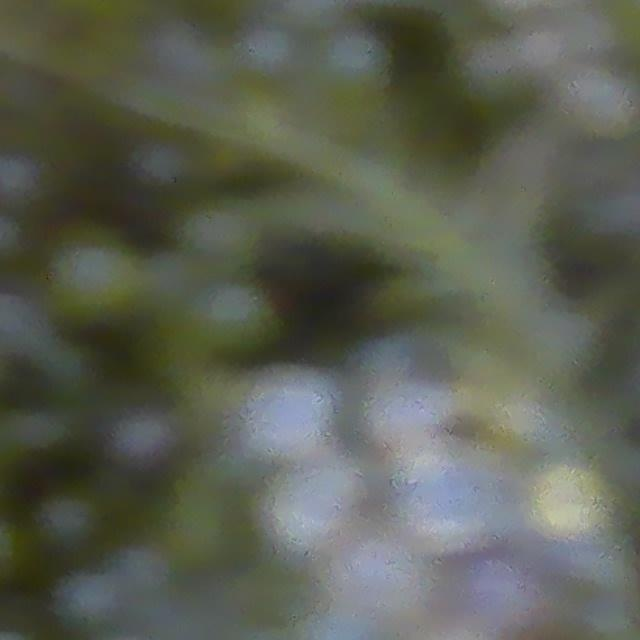SeaGrape: (46, 228, 147, 324), (243, 366, 337, 455), (191, 279, 276, 360), (426, 466, 498, 559), (181, 192, 265, 270), (319, 28, 390, 96), (295, 472, 354, 553), (106, 404, 176, 471), (131, 132, 194, 192), (367, 378, 430, 437), (239, 21, 302, 79), (39, 490, 99, 549), (0, 285, 48, 357)
